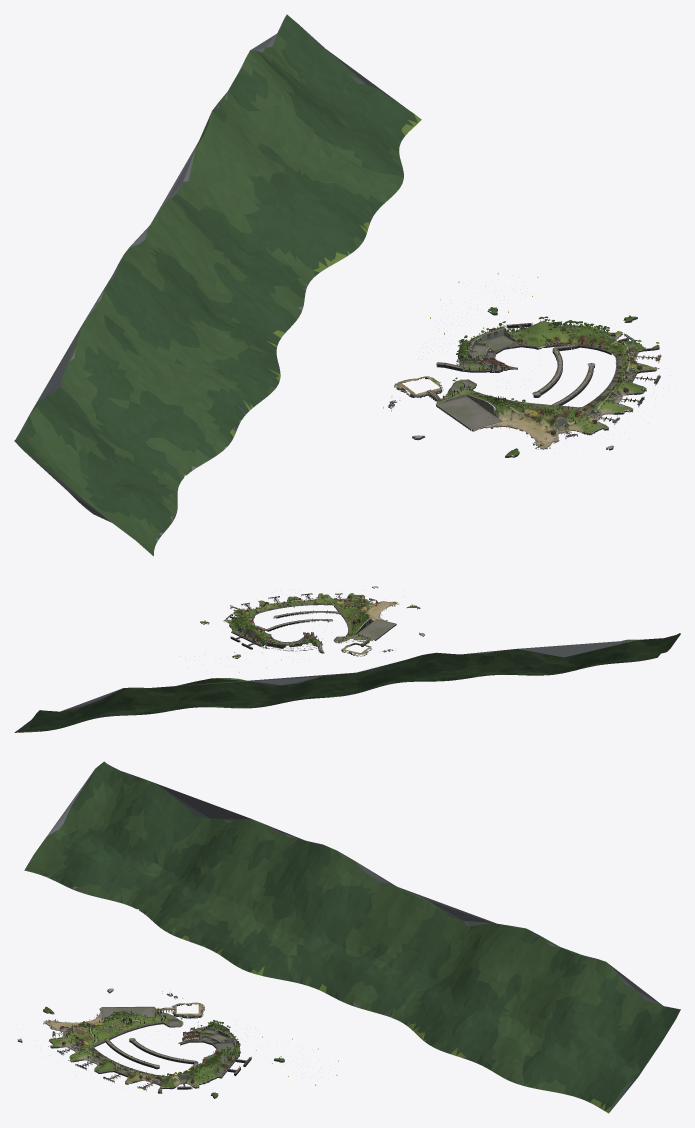
Rendered from island.glb.
3 views of the same model, one above another, from view 1: azimuth 30°, elevation 25°; view 2: azimuth 150°, elevation 25°; view 3: azimuth 270°, elevation 25° (orthographic). The views are drawn at different scales.
Parts seen in each view (by area): view 1: shakkei, island_ws_opaque, island_es_opaque, island_en_opaque, island_wn_opaque; view 2: shakkei, island_ws_opaque, island_es_opaque, island_en_opaque, island_wn_opaque; view 3: shakkei, island_ws_opaque, island_es_opaque, island_en_opaque, island_wn_opaque.
Boxes of the visible parts, bbox=[...] form: shakkei: bbox=[14, 14, 421, 556]; island_ws_opaque: bbox=[412, 328, 633, 457]; island_es_opaque: bbox=[465, 307, 661, 452]; island_en_opaque: bbox=[419, 273, 670, 427]; island_wn_opaque: bbox=[383, 328, 589, 411]; shakkei: bbox=[14, 633, 680, 732]; island_ws_opaque: bbox=[237, 586, 424, 648]; island_es_opaque: bbox=[204, 593, 414, 654]; island_en_opaque: bbox=[180, 609, 281, 672]; island_wn_opaque: bbox=[256, 611, 393, 656]; shakkei: bbox=[24, 761, 680, 1113]; island_ws_opaque: bbox=[17, 988, 235, 1081]; island_es_opaque: bbox=[47, 1007, 281, 1093]; island_en_opaque: bbox=[169, 1036, 338, 1098]; island_wn_opaque: bbox=[108, 991, 238, 1063].
Size of the model in its own units: 1855 by 276 by 1895.
